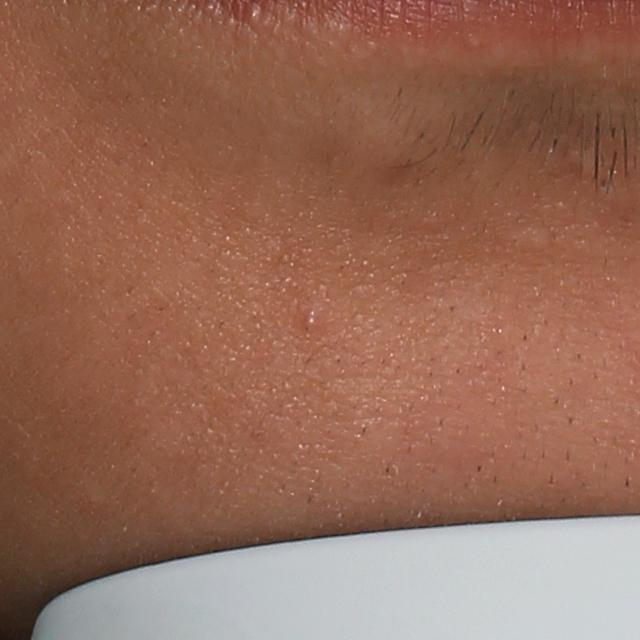comedo: (303, 312, 319, 331)
hypertrophic_scar: (504, 226, 551, 252)
